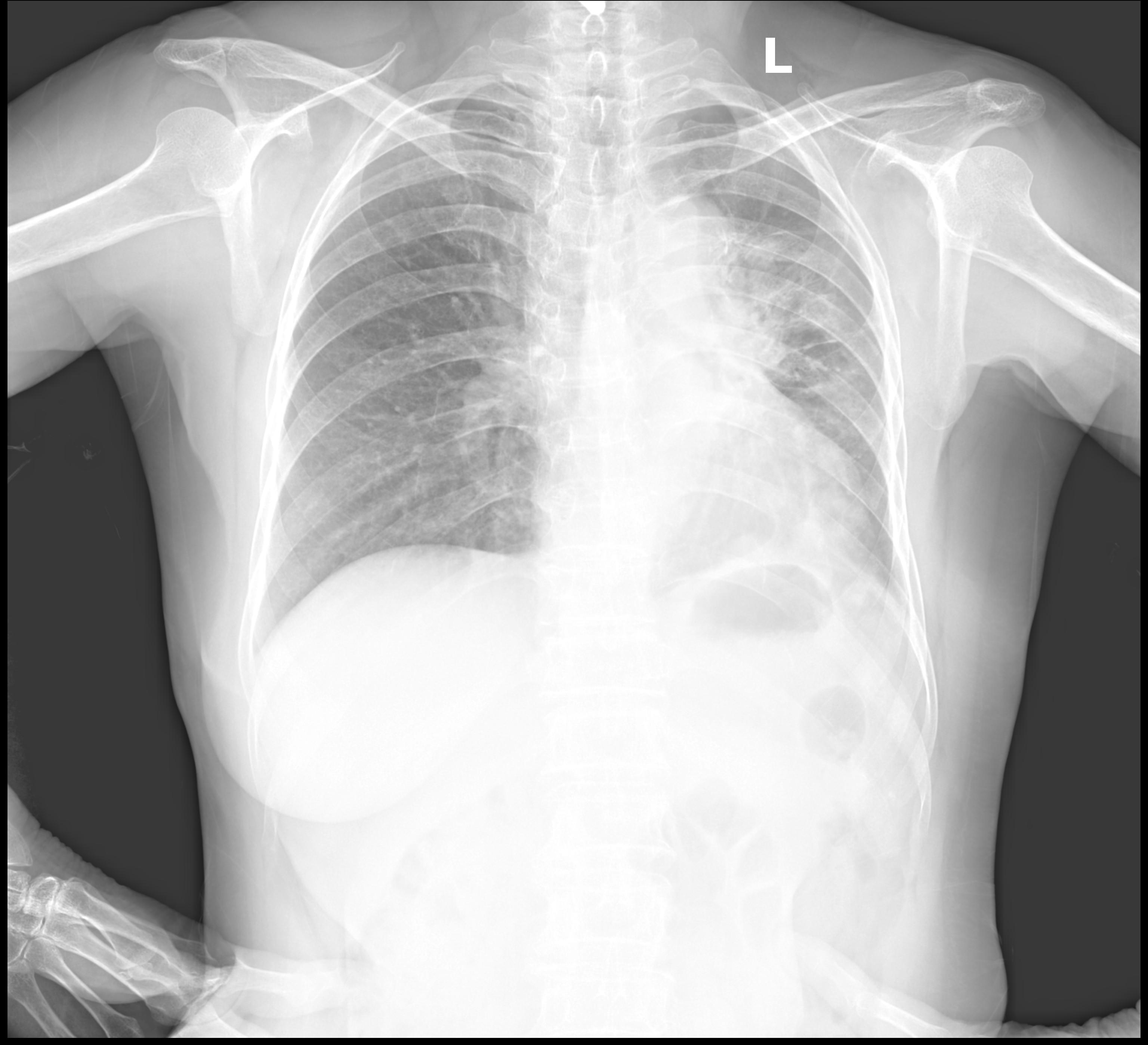Aortic enlargement: (626, 199, 734, 308)
Cardiomegaly: (529, 447, 877, 563)
Pulmonary fibrosis: (715, 233, 871, 407)
